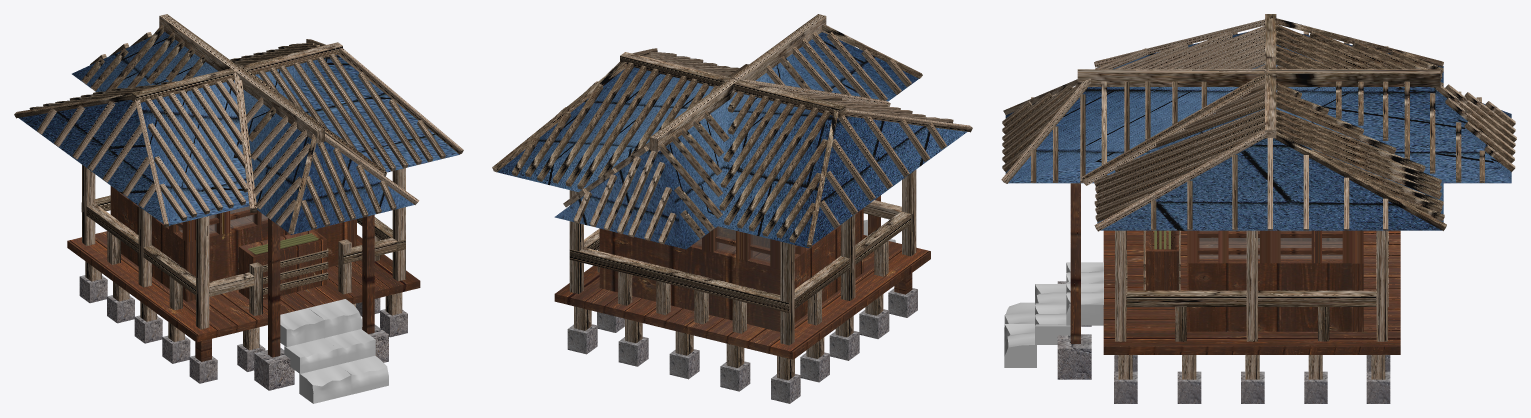
The model's file is shrineModel.fbx.
3 views of the same model, side by side, from view 1: azimuth 30°, elevation 25°; view 2: azimuth 150°, elevation 25°; view 3: azimuth 270°, elevation 25° (orthographic). The views are drawn at different scales.
Parts seen in each view (by area): view 1: Roof, woodenRailing, woodenBase, door, sidewall1, RoofTopBeam1, RoofTopBeam2, DonationBox, RoofBaseFoundation1, polySurface1, RoofBaseFoundation, polySurface5 (+50 smaller); view 2: Roof, woodenRailing, woodenBase, backwall, RoofTopBeam1, RoofTopBeam2, sidewall1, RoofBeam4, pillar6, pillar7, pillar4, pillar5 (+38 smaller); view 3: Roof, woodenBase, sidewall2, woodenRailing, RoofTopBeam1, RoofBeam5, DonationBox, RoofBaseFoundation, RoofBeam3, sideWindow2, RoofBeam4, RoofBasePillar (+58 smaller).
Boxes of the visible parts, x1,y1,x2,y2 form: Roof: [19, 32, 459, 234]; woodenRailing: [81, 165, 405, 329]; woodenBase: [67, 214, 420, 342]; door: [209, 210, 347, 281]; sidewall1: [115, 189, 195, 301]; RoofTopBeam1: [159, 14, 324, 143]; RoofTopBeam2: [131, 42, 342, 102]; DonationBox: [239, 229, 326, 299]; RoofBaseFoundation1: [268, 218, 280, 357]; polySurface1: [299, 365, 351, 403]; RoofBaseFoundation: [362, 214, 374, 334]; polySurface5: [280, 308, 324, 347]; Roof: [497, 32, 966, 249]; woodenRailing: [569, 170, 916, 345]; woodenBase: [554, 235, 930, 359]; backwall: [599, 226, 780, 331]; RoofTopBeam1: [649, 14, 826, 151]; RoofTopBeam2: [620, 52, 845, 117]; sidewall1: [794, 208, 863, 322]; RoofBeam4: [492, 62, 626, 172]; pillar6: [669, 331, 699, 379]; pillar7: [720, 343, 750, 391]; pillar4: [567, 306, 597, 354]; pillar5: [618, 319, 648, 366]; Roof: [1005, 31, 1511, 230]; woodenBase: [1103, 230, 1400, 354]; sidewall2: [1187, 230, 1352, 331]; woodenRailing: [1115, 230, 1388, 341]; RoofTopBeam1: [1077, 69, 1440, 87]; RoofBeam5: [1081, 71, 1269, 185]; DonationBox: [1146, 230, 1178, 290]; RoofBaseFoundation: [1070, 183, 1080, 343]; RoofBeam3: [1094, 130, 1266, 231]; sideWindow2: [1199, 230, 1342, 258]; RoofBeam4: [1274, 131, 1446, 230]; RoofBasePillar: [1057, 334, 1091, 379].
Bounding box in the file's own units: 74.53 × 57.14 × 96.31.
